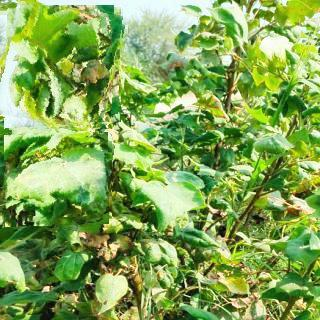curl: (0, 5, 123, 131), (0, 131, 112, 231)
